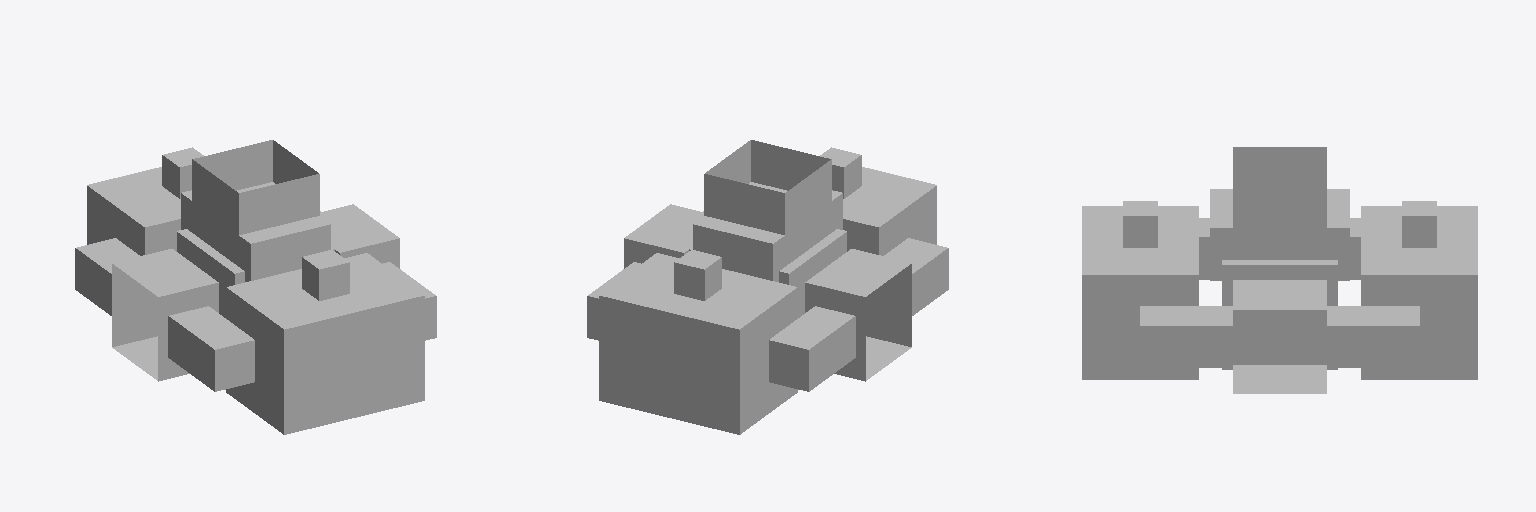
Rendered from frame.obj.
3 views of the same model, side by side, from view 1: azimuth 30°, elevation 25°; view 2: azimuth 150°, elevation 25°; view 3: azimuth 270°, elevation 25° (orthographic).
Visible parts, largest first — view 1: cube_10, cube_0, cube_7, cube_1, cube_3, cube_12, cube_5, cube_8, cube_4, cube_11, cube_2, cube_9; view 2: cube_1, cube_0, cube_7, cube_10, cube_3, cube_8, cube_5, cube_12, cube_4, cube_2, cube_11, cube_6; view 3: cube_1, cube_10, cube_5, cube_0, cube_3, cube_6, cube_9, cube_4, cube_2, cube_11, cube_8, cube_12.
Part boxes in pixels (left/top/right/bottom): cube_10: left=226, top=253, right=424, bottom=434; cube_0: left=192, top=140, right=319, bottom=234; cube_7: left=112, top=249, right=218, bottom=381; cube_1: left=87, top=167, right=180, bottom=255; cube_3: left=181, top=182, right=330, bottom=281; cube_12: left=168, top=306, right=254, bottom=391; cube_5: left=320, top=204, right=399, bottom=268; cube_8: left=75, top=238, right=139, bottom=315; cube_4: left=177, top=229, right=334, bottom=317; cube_11: left=302, top=250, right=349, bottom=300; cube_2: left=162, top=147, right=203, bottom=198; cube_9: left=383, top=262, right=436, bottom=340; cube_1: left=599, top=253, right=797, bottom=434; cube_0: left=704, top=140, right=831, bottom=234; cube_7: left=805, top=249, right=911, bottom=381; cube_10: left=843, top=167, right=936, bottom=255; cube_3: left=693, top=182, right=842, bottom=281; cube_8: left=769, top=306, right=855, bottom=391; cube_5: left=624, top=204, right=703, bottom=268; cube_12: left=884, top=238, right=948, bottom=315; cube_4: left=689, top=229, right=846, bottom=317; cube_2: left=674, top=250, right=721, bottom=300; cube_11: left=820, top=147, right=861, bottom=198; cube_6: left=587, top=262, right=640, bottom=340; cube_1: left=1361, top=206, right=1477, bottom=379; cube_10: left=1082, top=206, right=1198, bottom=379; cube_5: left=1233, top=280, right=1326, bottom=393; cube_0: left=1233, top=147, right=1326, bottom=227; cube_3: left=1210, top=189, right=1349, bottom=280; cube_6: left=1327, top=306, right=1419, bottom=367; cube_9: left=1140, top=306, right=1232, bottom=367; cube_4: left=1222, top=260, right=1337, bottom=369; cube_2: left=1402, top=201, right=1436, bottom=247; cube_11: left=1123, top=201, right=1157, bottom=247; cube_8: left=1350, top=218, right=1360, bottom=279; cube_12: left=1199, top=218, right=1209, bottom=279.
Size of the model in its own units: 1.5 by 1.06 by 2.12.